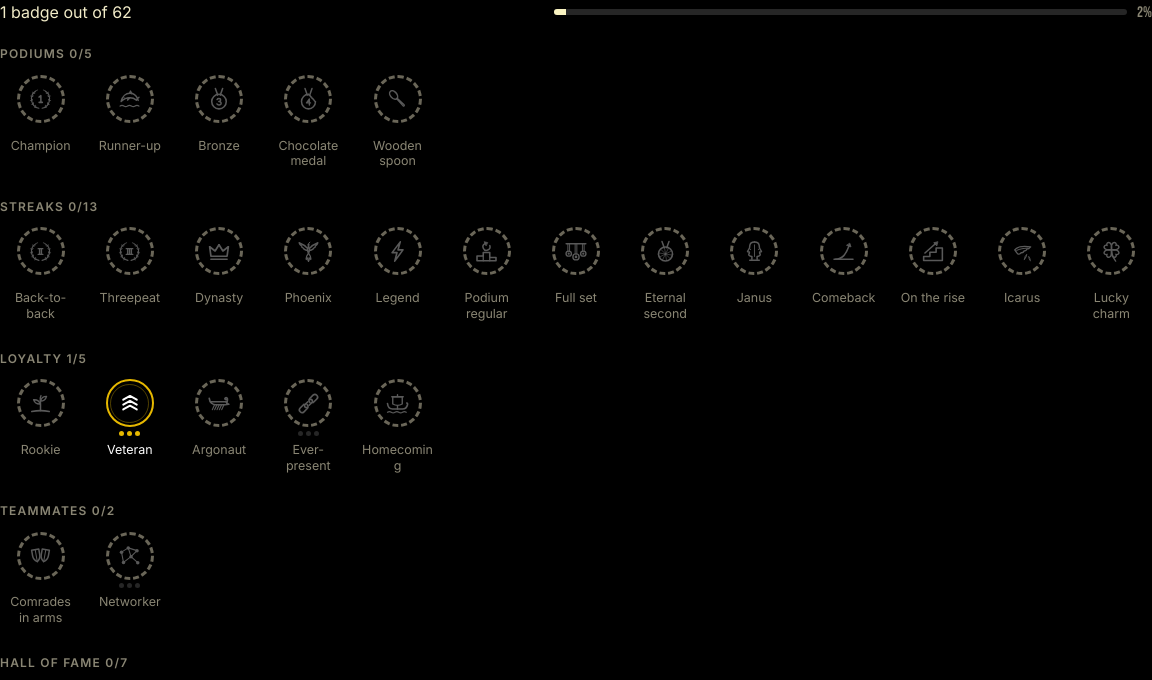
it: BadgeCollection › shows the top-tier line for a badge at tier 3
Click the button "Veteran".
click(130, 426)  # box top-left (89, 375), bottom-right (170, 477)
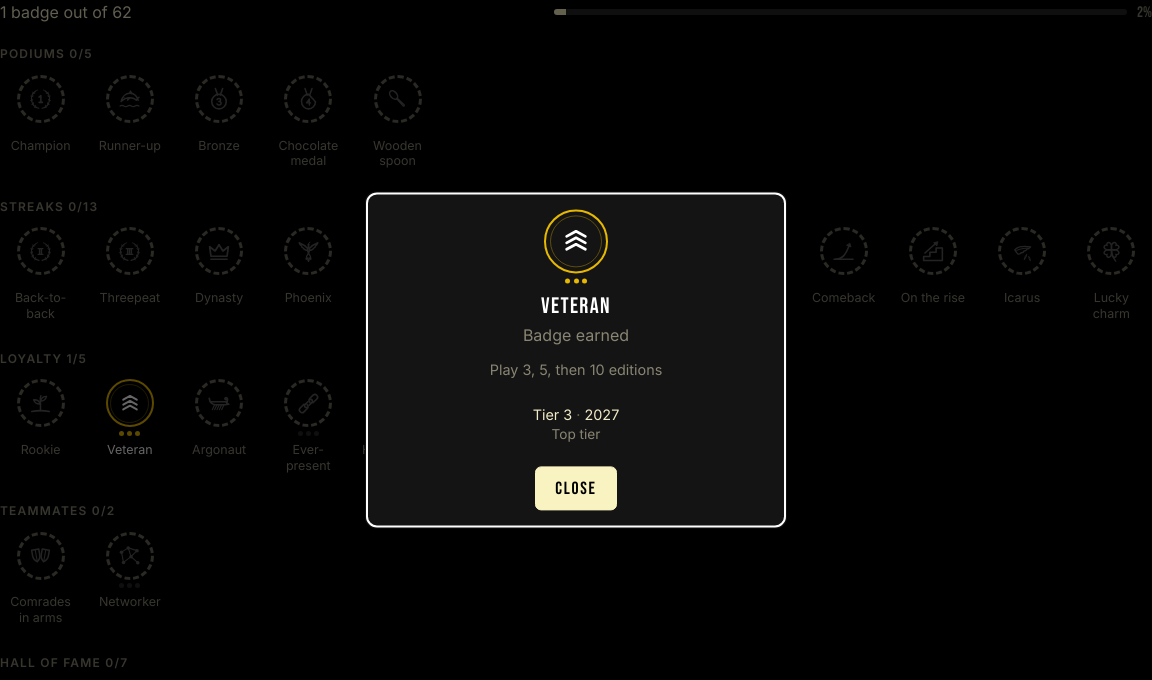
Now the dialog "Veteran" shows "Top tier", box top-left (552, 427), bottom-right (600, 443)
